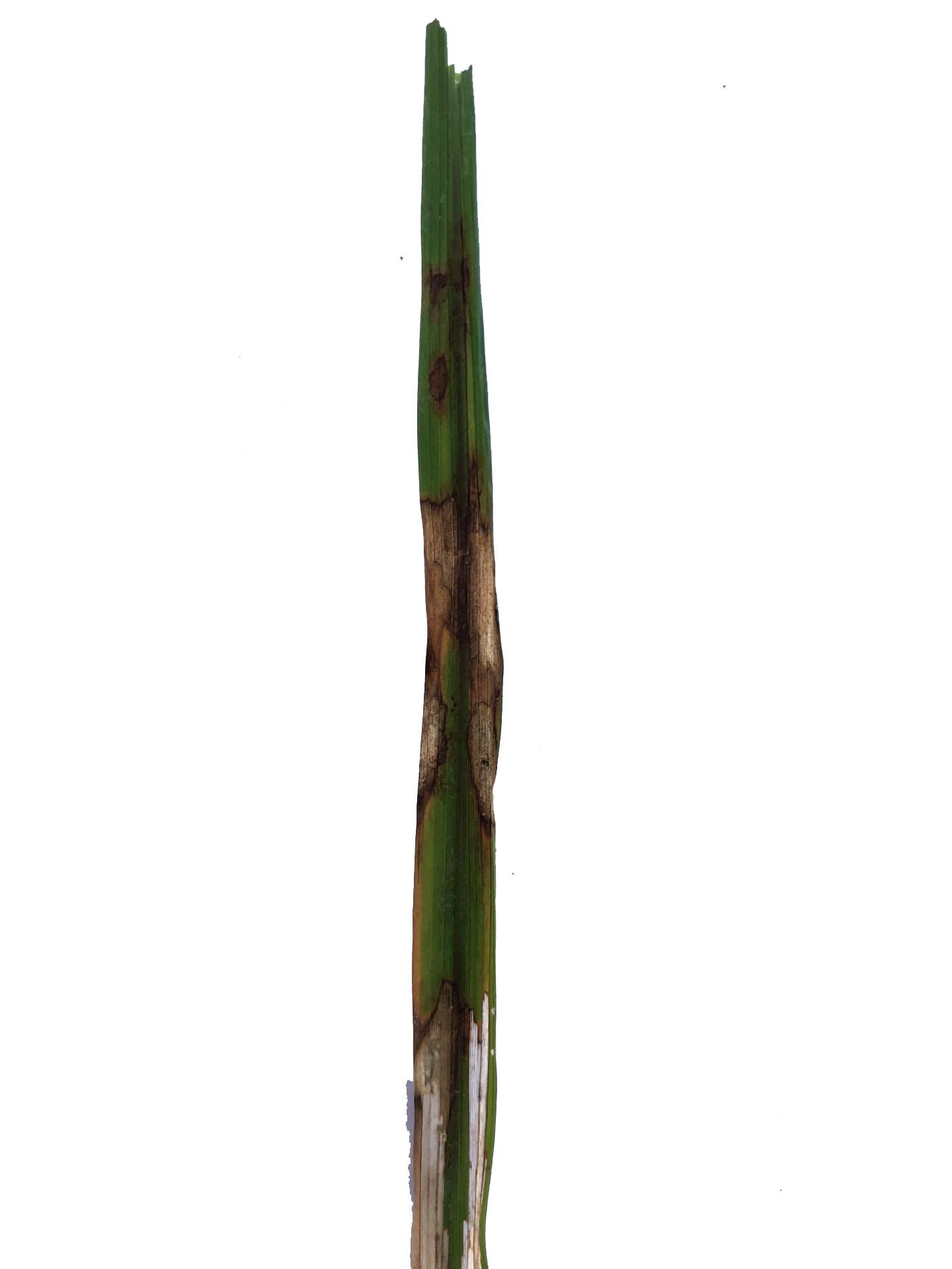Blight: (426, 463, 499, 846), (420, 324, 463, 413), (410, 978, 426, 1005)
